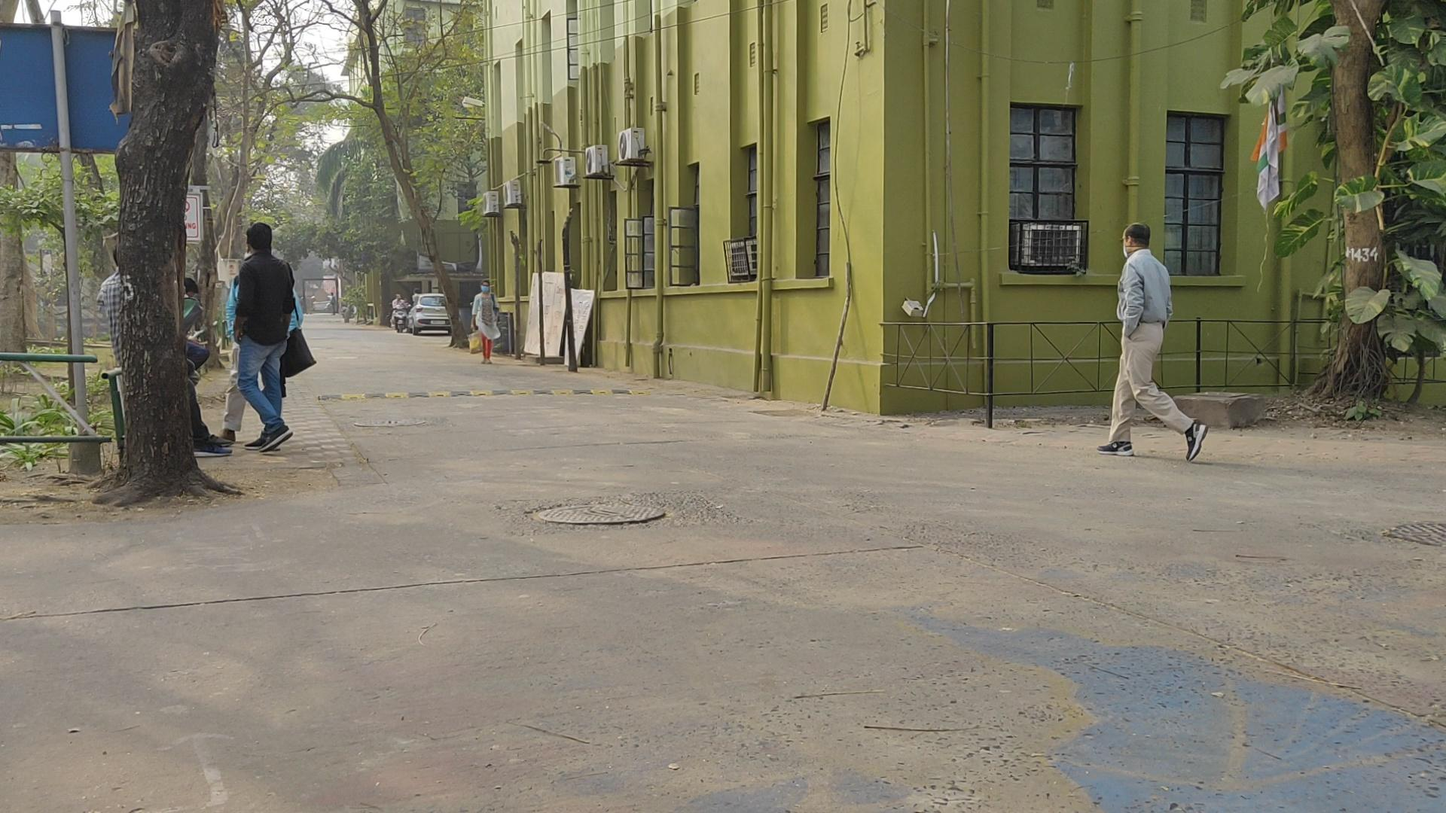bike: (391, 293, 410, 333)
car: (406, 294, 451, 336)
